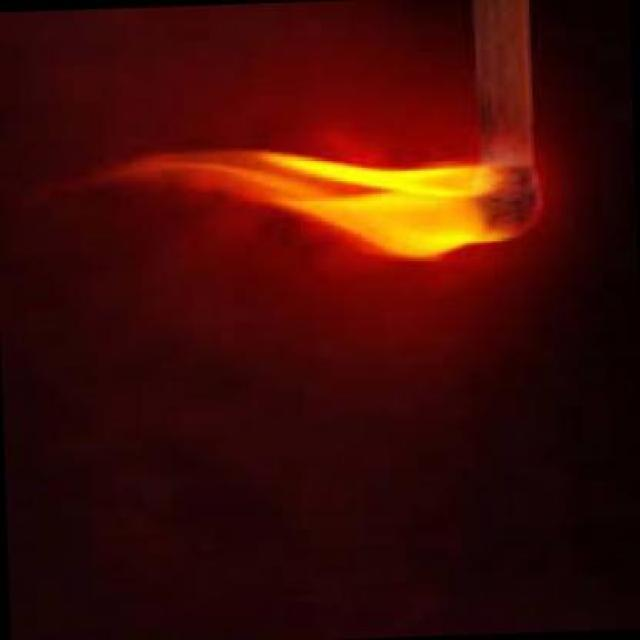Fire: (37, 141, 546, 262)
